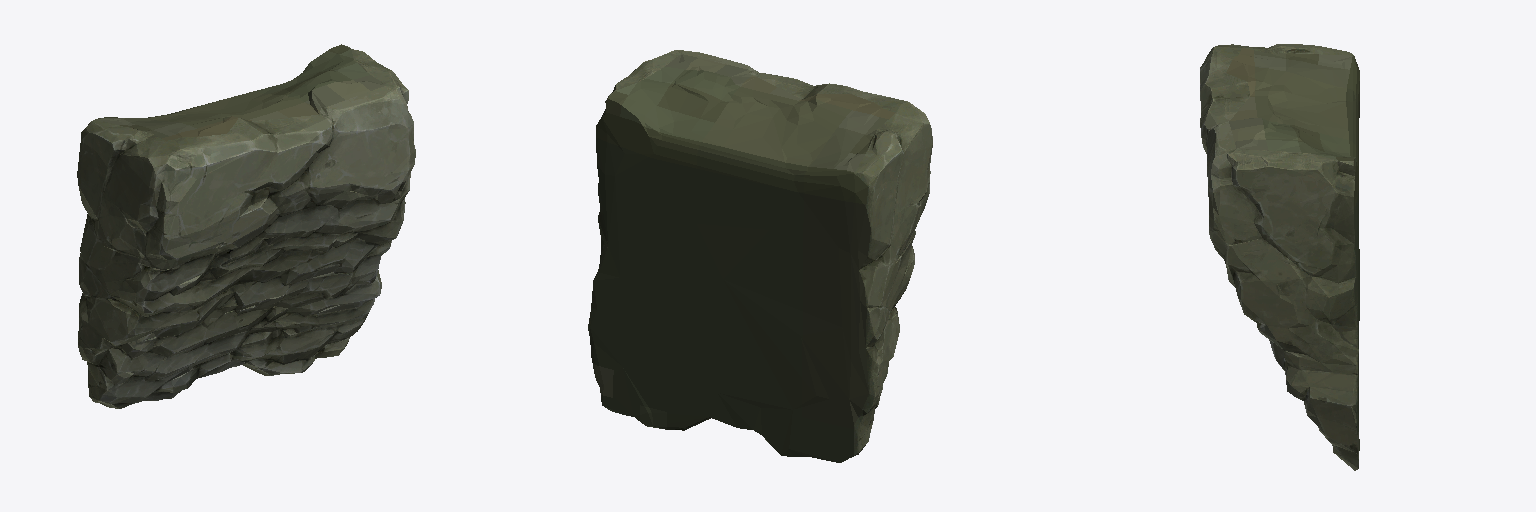
3 renders of one model, left to right at view 1: azimuth 30°, elevation 25°; view 2: azimuth 150°, elevation 25°; view 3: azimuth 270°, elevation 25°, orthographic.
Visible parts, largest first — view 1: Dn_HL_Stairs_Rock_A; view 2: Dn_HL_Stairs_Rock_A; view 3: Dn_HL_Stairs_Rock_A.
Boxes of the visible parts, box(x1,y1,x2,y2) form: Dn_HL_Stairs_Rock_A: box(77, 44, 415, 408); Dn_HL_Stairs_Rock_A: box(588, 50, 932, 462); Dn_HL_Stairs_Rock_A: box(1200, 44, 1359, 470).
Bounding box in the file's own units: 8.45 × 9.2 × 4.12.
1 materials, 1 textured.